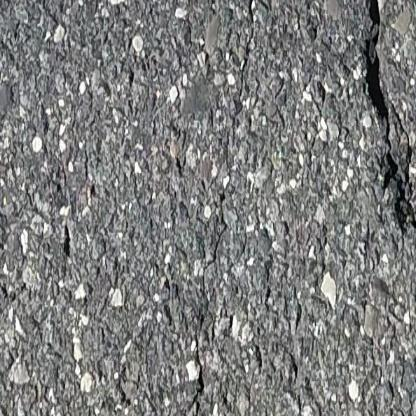Cracks: (362, 0, 416, 416), (245, 0, 263, 13)
